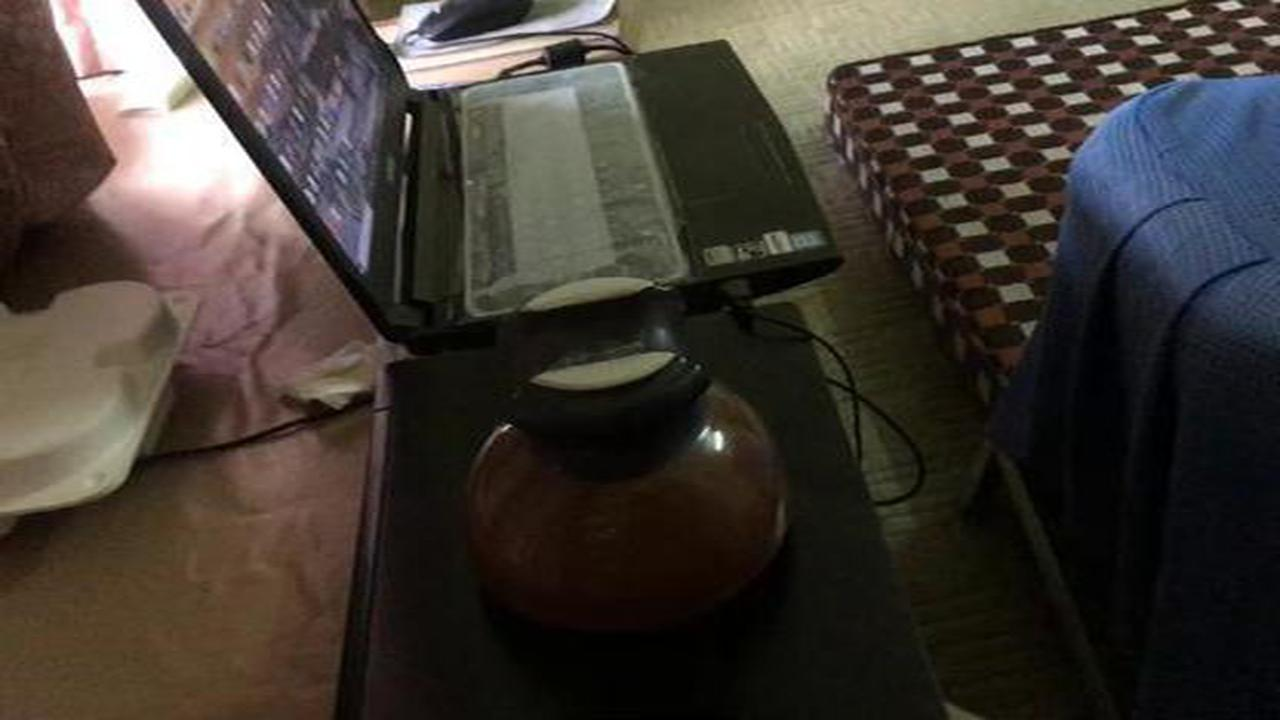insulator_pin: (429, 258, 819, 674)
